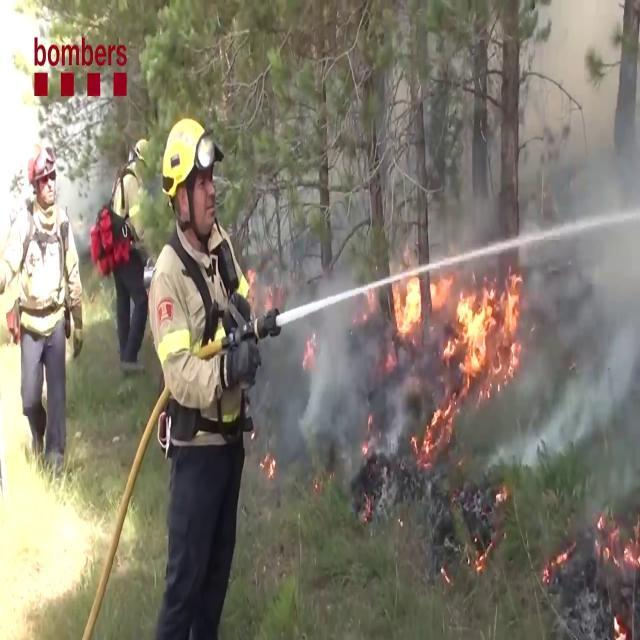Fire: (388, 245, 530, 385)
Smoke: (521, 9, 640, 518), (254, 233, 406, 484)
